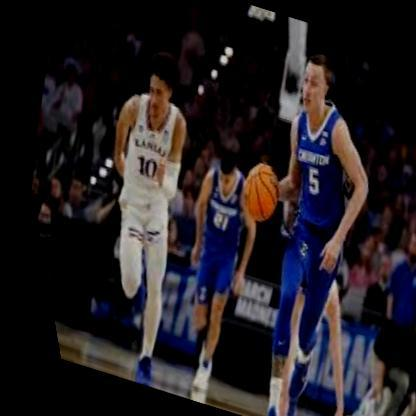basketball: (227, 161, 281, 224)
